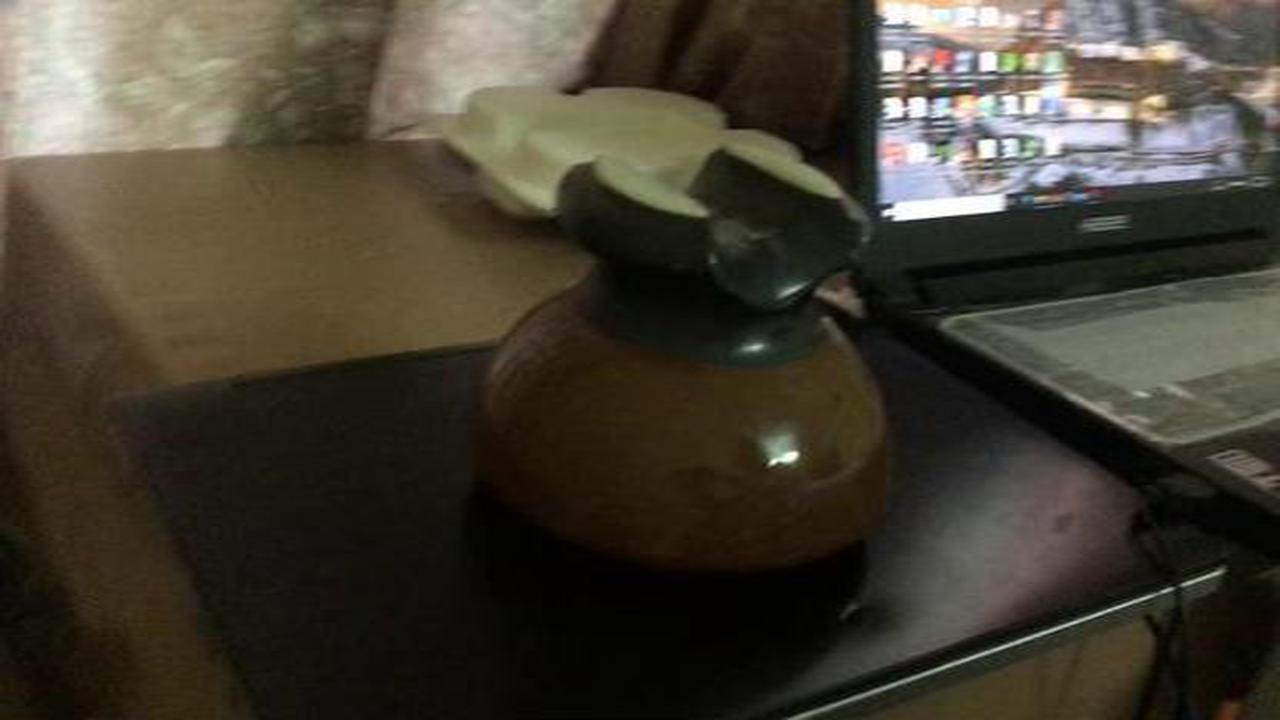insulator_pin: (462, 129, 917, 601)
